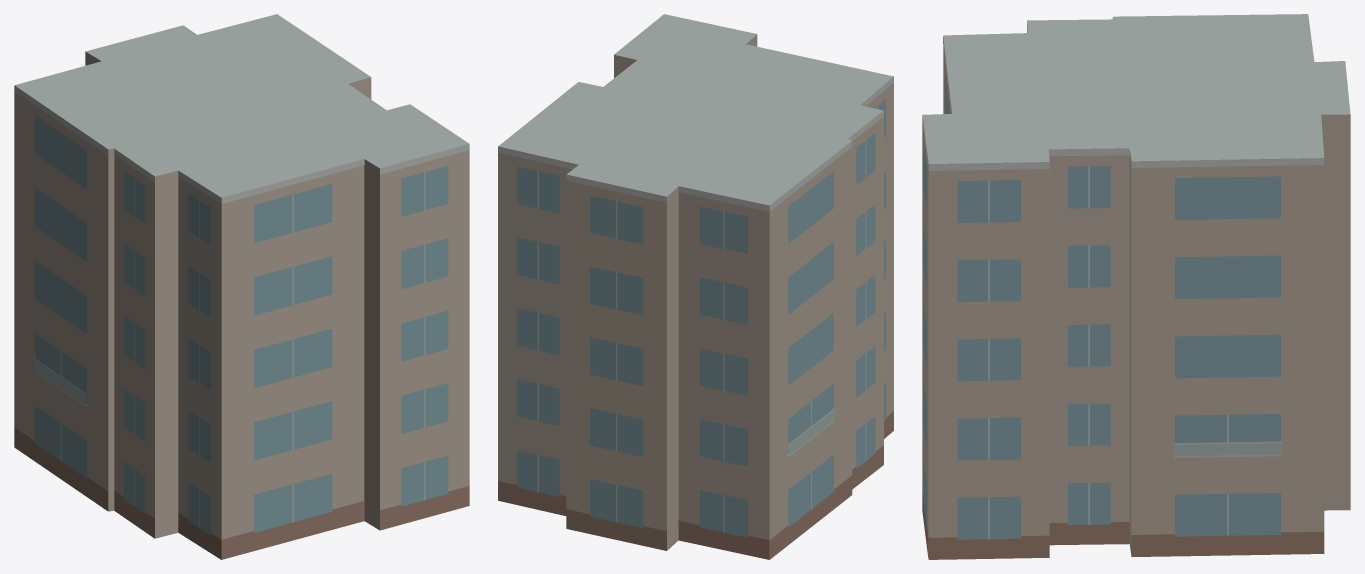
The model's file is survey-upis-33040211.glb.
The picture shows the model from 3 angles, left to right: view 1: azimuth 30°, elevation 25°; view 2: azimuth 150°, elevation 25°; view 3: azimuth 270°, elevation 25°; orthographic projection. The views are drawn at different scales.
Visible parts, largest first — view 1: survey-upis-33040211.tmp; view 2: survey-upis-33040211.tmp; view 3: survey-upis-33040211.tmp.
Part boxes in pixels (<box>): survey-upis-33040211.tmp: <box>14,14,469,559</box>; survey-upis-33040211.tmp: <box>498,14,893,559</box>; survey-upis-33040211.tmp: <box>922,14,1350,559</box>.
Size of the model in its own units: 11.4 by 14 by 13.74.
